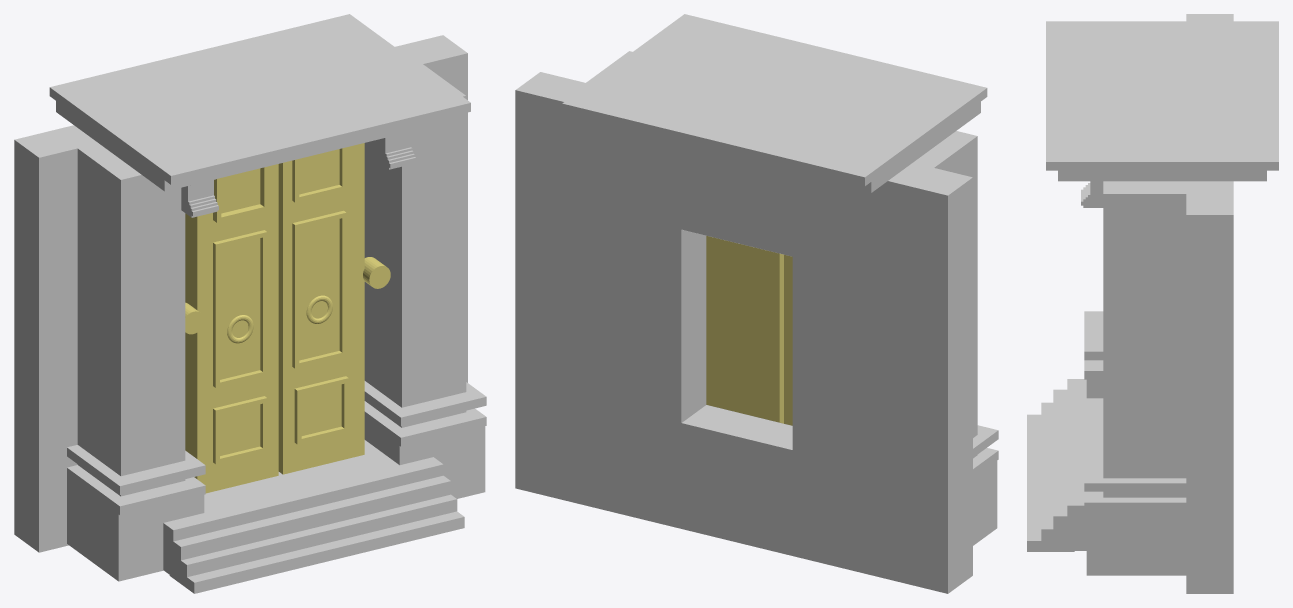
Rendered from Puerta_bcch_v3.glb.
The picture shows the model from 3 angles, left to right: view 1: azimuth 30°, elevation 25°; view 2: azimuth 150°, elevation 25°; view 3: azimuth 270°, elevation 25°; orthographic projection. The views are drawn at different scales.
Visible parts, largest first — view 1: Cubo.015, Puerta_Derecha, Puerta_Izquierda; view 2: Cubo.015, Puerta_Derecha, Puerta_Izquierda; view 3: Cubo.015.
Part boxes in pixels (<box>): Cubo.015: <box>14,14,486,593</box>; Puerta_Derecha: <box>278,143,390,474</box>; Puerta_Izquierda: <box>185,164,278,493</box>; Cubo.015: <box>515,14,998,593</box>; Puerta_Derecha: <box>706,236,783,423</box>; Puerta_Izquierda: <box>784,254,792,425</box>; Cubo.015: <box>1027,14,1278,593</box>.
Size of the model in its own units: 2 by 1.85 by 1.06.
